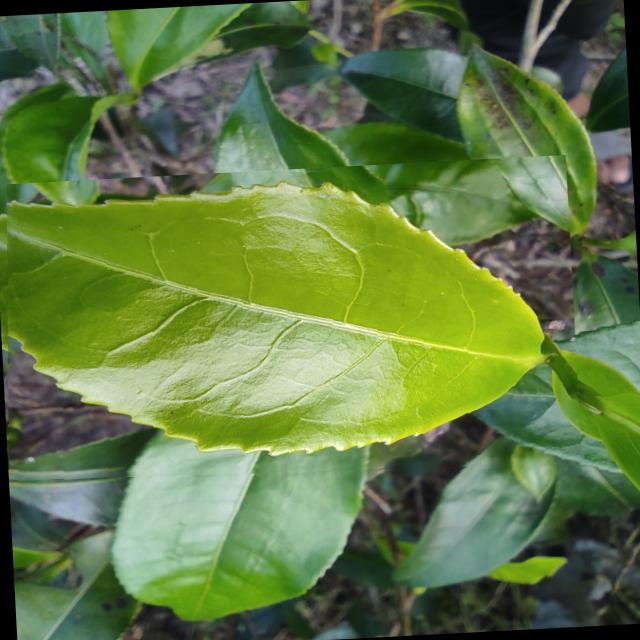Category B(2-4 days): (0, 154, 580, 493)
